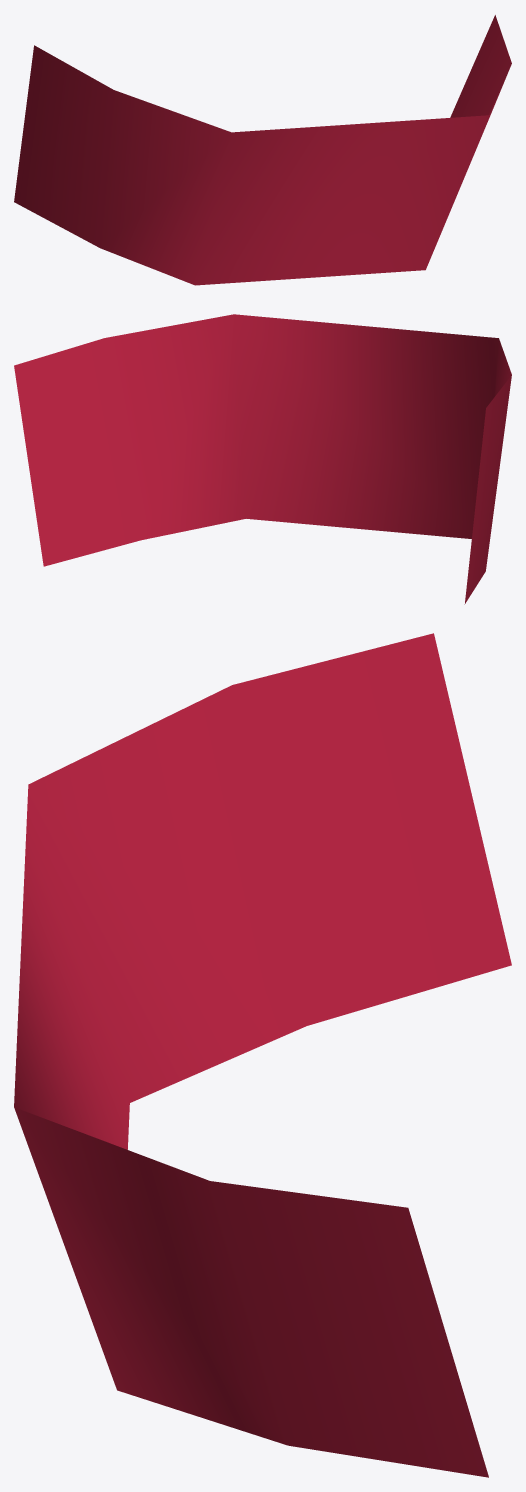
The picture shows the model from 3 angles, top to bottom: view 1: azimuth 30°, elevation 25°; view 2: azimuth 150°, elevation 25°; view 3: azimuth 270°, elevation 25°; orthographic projection. The views are drawn at different scales.
Parts seen in each view (by area): view 1: ef_404; view 2: ef_404; view 3: ef_404.
Part boxes in pixels (x1,y1,x2,y2): ef_404: (14, 15, 511, 285); ef_404: (14, 314, 511, 604); ef_404: (14, 633, 511, 1477).
Bounding box in the file's own units: 0.7222 × 0.3676 × 0.3545.
Materials: 1 (1 with a texture image).
